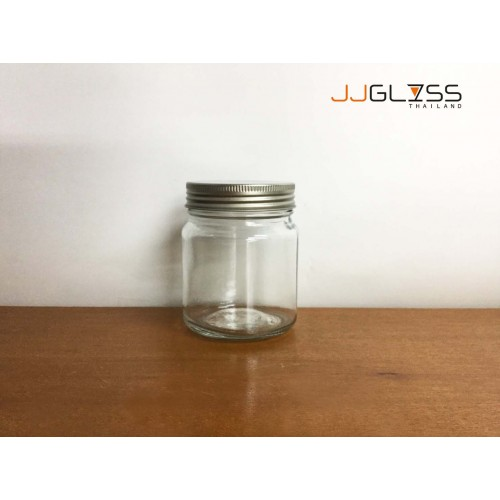glass_bottleww: (123, 117, 343, 371)
